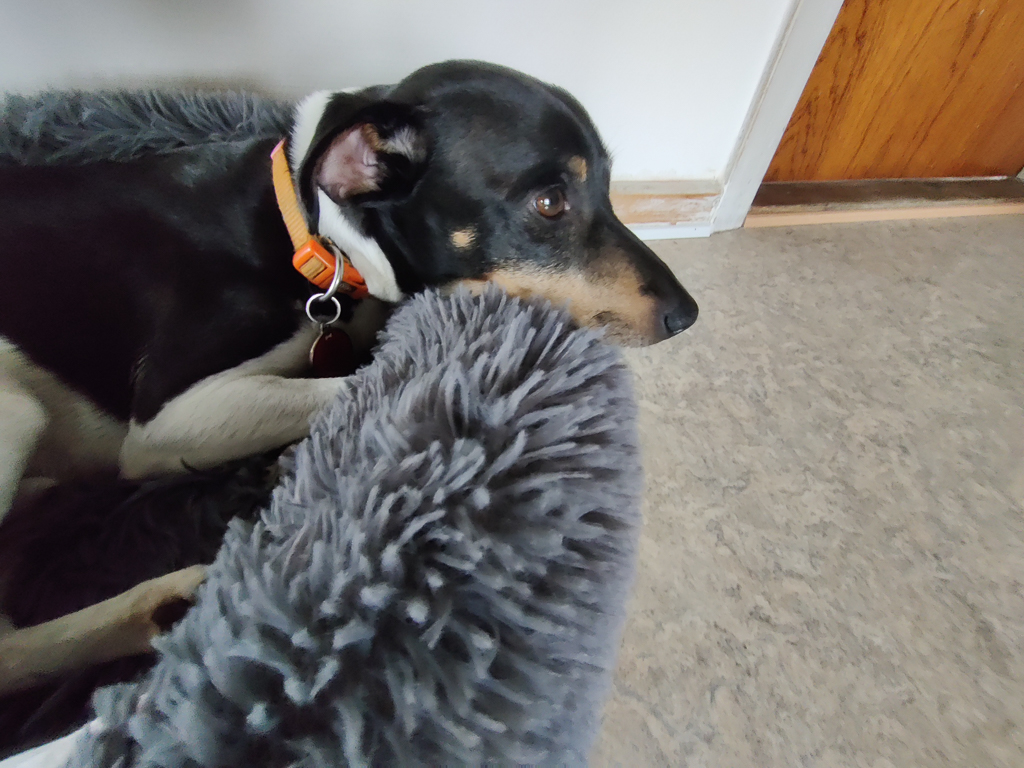Dog: (0, 53, 719, 768)
